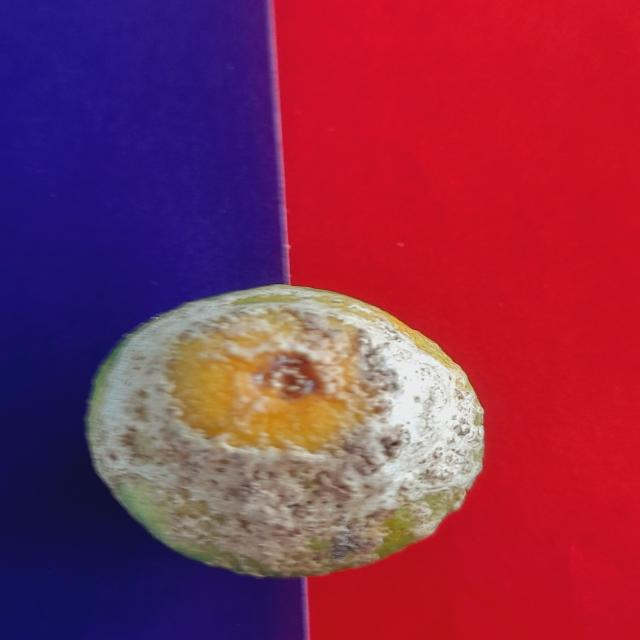thrips: (79, 286, 499, 581)
